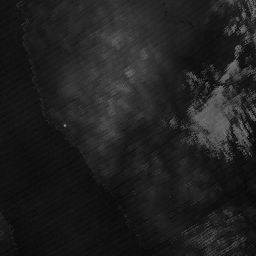Target: (62, 123, 67, 129)
